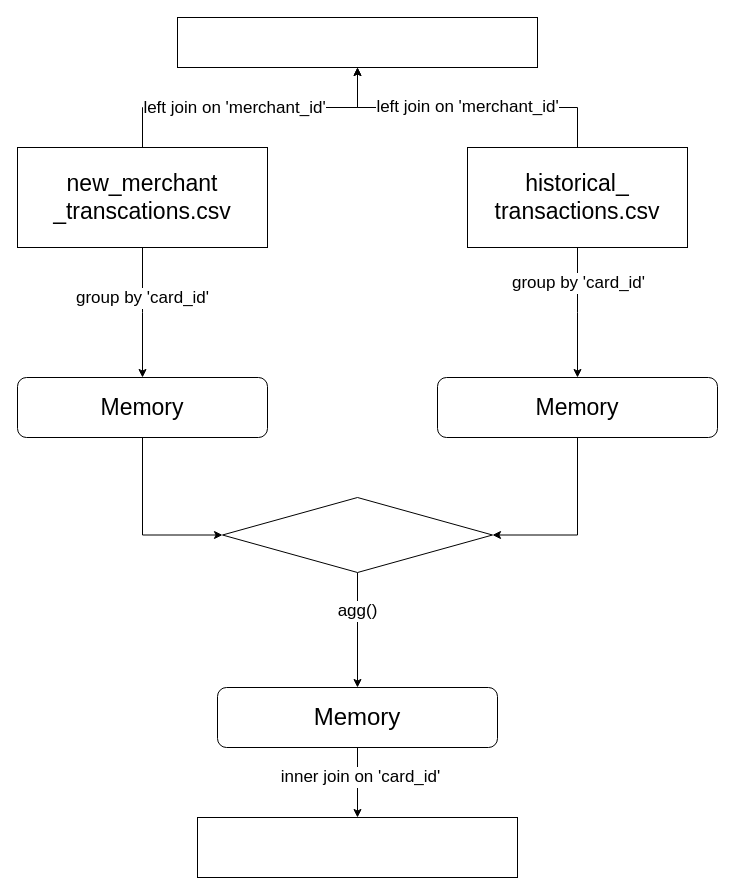
The diagram is 735 pixels wide and 895 high, and some of its shapes have lost their labels. The box of each missing label's shape, as (x1, y1, x2, y2) in pixels:
Aggregator: (222, 496, 492, 572)
merchants.csv: (176, 16, 538, 68)
transactions_pre.csv: (196, 816, 518, 878)
